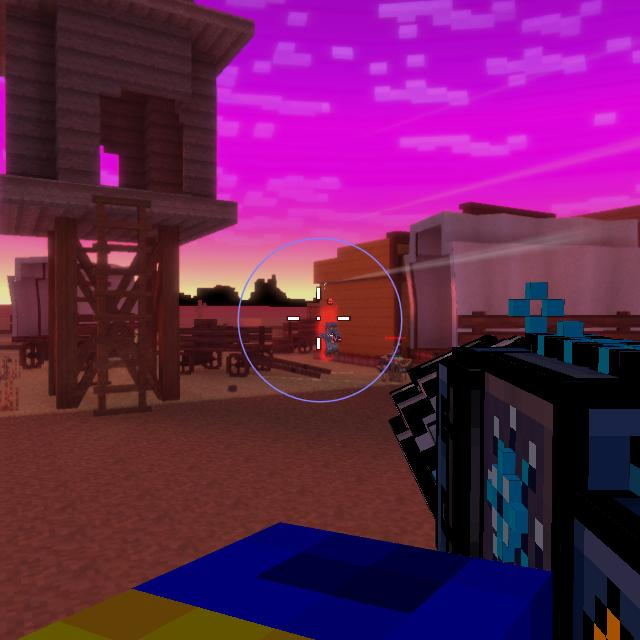Enemy: (320, 322, 341, 357)
